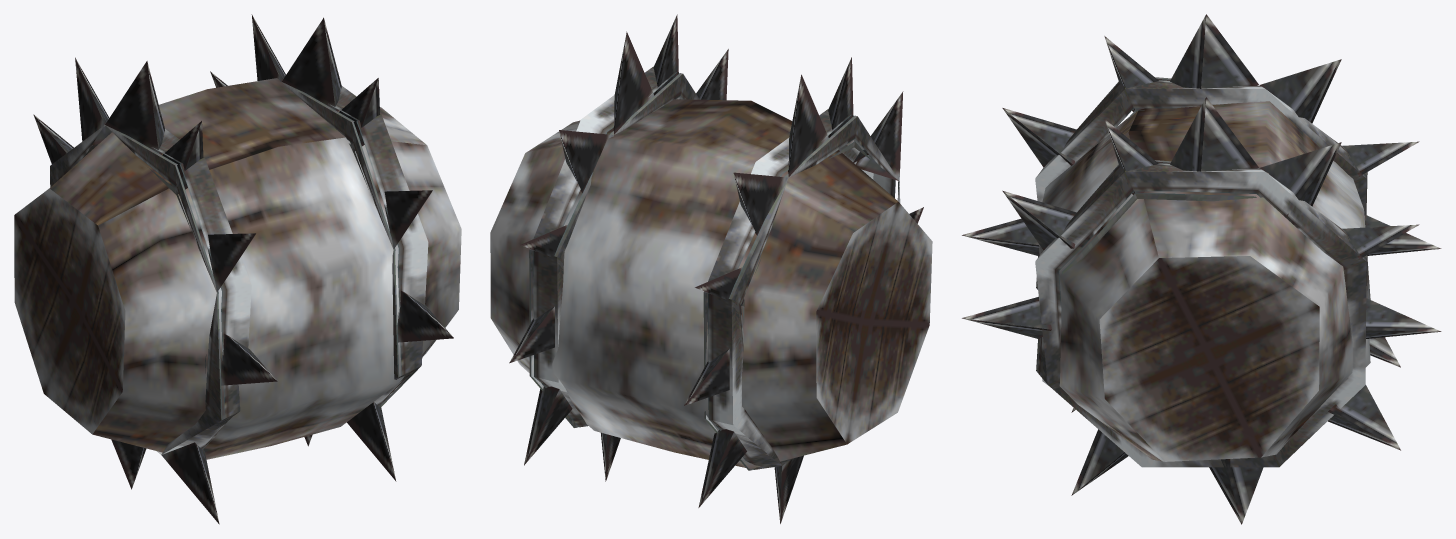
File: 5014_Item_longzi_1.FBX
3 renders of one model, left to right at view 1: azimuth 30°, elevation 25°; view 2: azimuth 150°, elevation 25°; view 3: azimuth 270°, elevation 25°, orthographic. The views are drawn at different scales.
Parts seen in each view (by area): view 1: 5014_Item_longzi_1; view 2: 5014_Item_longzi_1; view 3: 5014_Item_longzi_1.
Part boxes in pixels (box(x1,y1,x2,y2)): 5014_Item_longzi_1: box(14, 14, 461, 524); 5014_Item_longzi_1: box(490, 14, 932, 523); 5014_Item_longzi_1: box(962, 14, 1441, 524).
Size of the model in its own units: 125 by 157 by 160.
